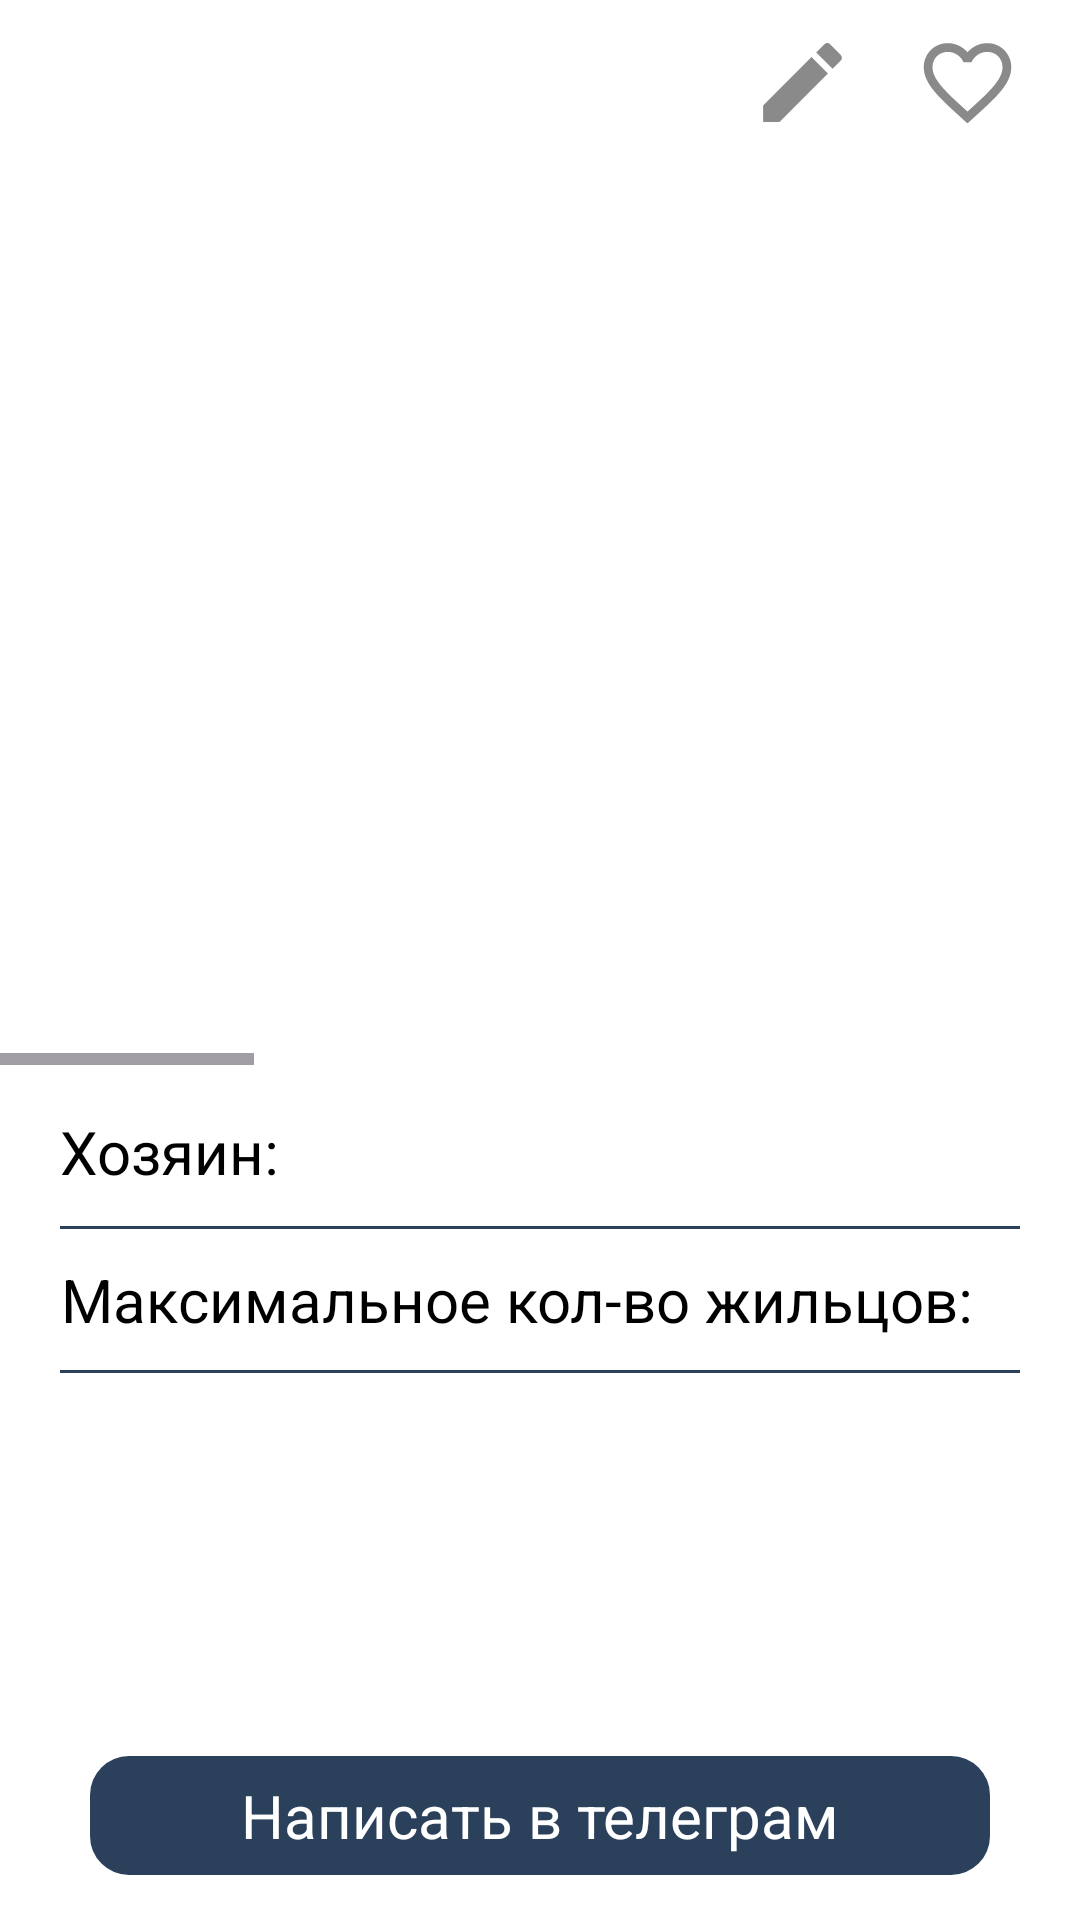

Where to tap for icons on this 1080px×1920px app screen, as [x,y]:
edit: [802,82]
favorite border: [967,83]
